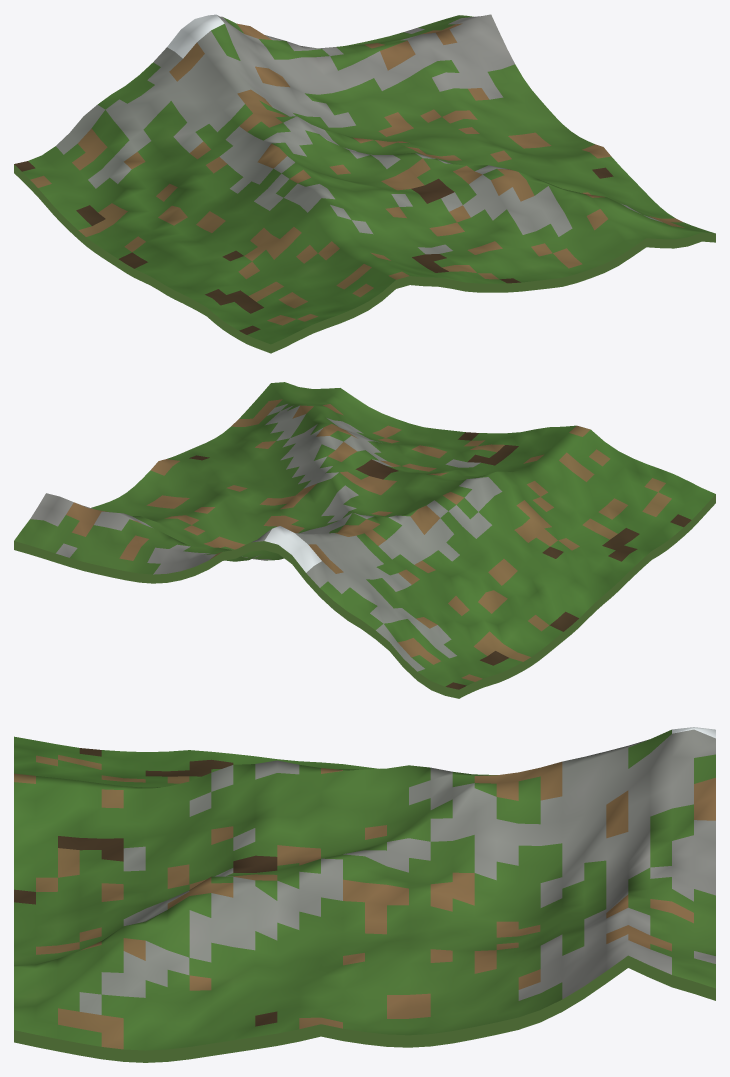
The model's file is chunk_1_1_lod1.glb.
3 views of the same model, one above another, from view 1: azimuth 30°, elevation 25°; view 2: azimuth 150°, elevation 25°; view 3: azimuth 270°, elevation 25° (orthographic). The views are drawn at different scales.
Parts seen in each view (by area): view 1: Surface_Grass, Surface_Gravel, Surface_Dirt, Skirt, Surface_Mud, Surface_Snow; view 2: Surface_Grass, Surface_Gravel, Surface_Dirt, Skirt, Surface_Mud, Surface_Snow; view 3: Surface_Grass, Surface_Gravel, Surface_Dirt, Skirt, Surface_Mud.
Boxes of the visible parts, x1=… form: Surface_Grass: x1=22, y1=15, x2=714, y2=344; Surface_Gravel: x1=56, y1=14, x2=662, y2=254; Surface_Dirt: x1=30, y1=23, x2=684, y2=325; Skirt: x1=14, y1=164, x2=715, y2=353; Surface_Mud: x1=14, y1=161, x2=613, y2=334; Surface_Snow: x1=167, y1=14, x2=224, y2=58; Surface_Grass: x1=14, y1=382, x2=715, y2=686; Surface_Gravel: x1=30, y1=404, x2=502, y2=671; Surface_Dirt: x1=66, y1=399, x2=671, y2=681; Skirt: x1=14, y1=494, x2=715, y2=698; Surface_Mud: x1=189, y1=432, x2=691, y2=689; Surface_Snow: x1=264, y1=526, x2=321, y2=572; Surface_Grass: x1=14, y1=729, x2=715, y2=1050; Surface_Gravel: x1=79, y1=729, x2=715, y2=1014; Surface_Dirt: x1=14, y1=755, x2=715, y2=1049; Skirt: x1=14, y1=955, x2=715, y2=1062; Surface_Mud: x1=14, y1=748, x2=277, y2=1026.
Size of the model in its own units: 256 by 75.55 by 256.
